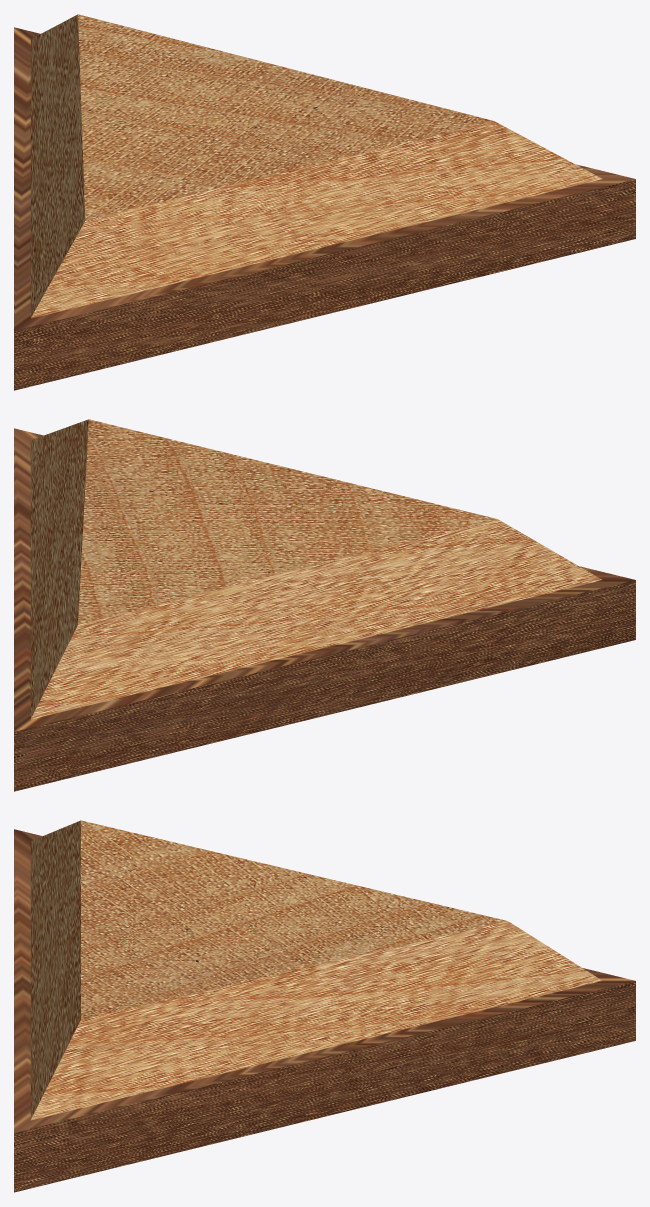
File: Triangle.FBX
3 renders of one model, top to bottom at view 1: azimuth 30°, elevation 25°; view 2: azimuth 150°, elevation 25°; view 3: azimuth 270°, elevation 25°, orthographic.
Visible parts, largest first — view 1: Triangle; view 2: Triangle; view 3: Triangle.
Part boxes in pixels (x1=…): Triangle: x1=14, y1=14, x2=635, y2=390; Triangle: x1=14, y1=419, x2=635, y2=791; Triangle: x1=14, y1=820, x2=635, y2=1192.
Bounding box in the file's own units: 10.87 × 9.41 × 2.
